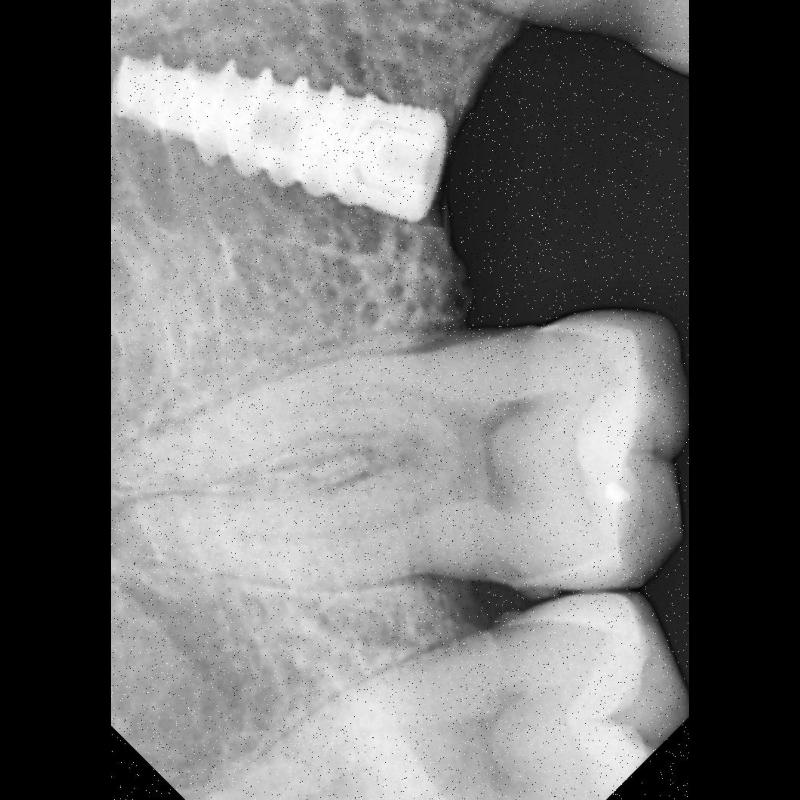NORIS: (112, 55, 454, 221)
